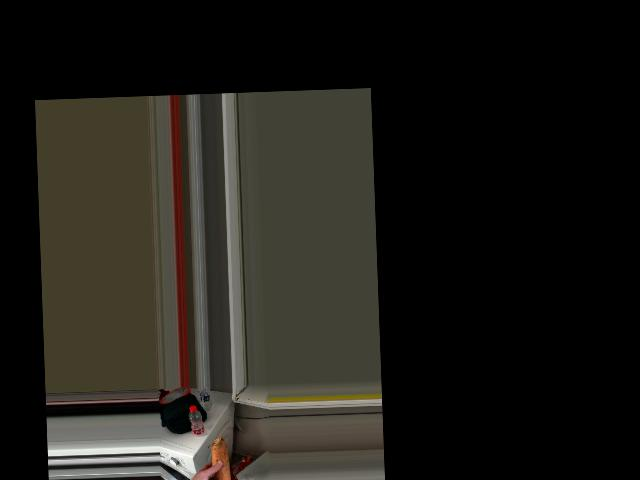sweet_potato: (208, 443, 230, 480)
